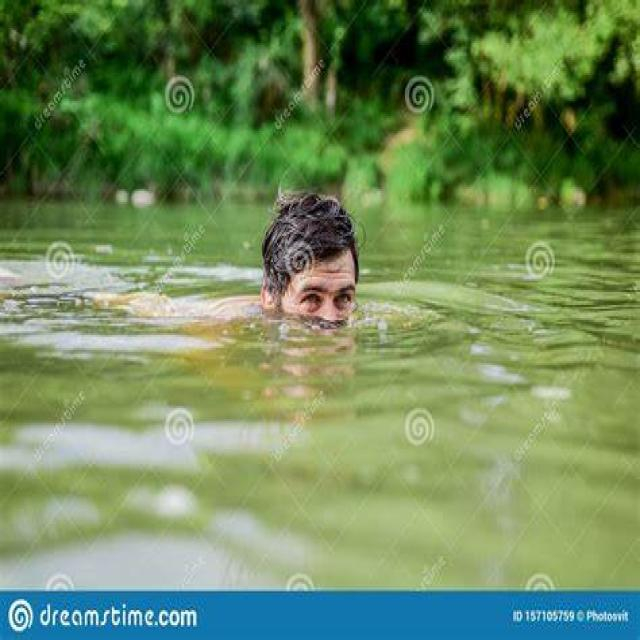swimming: (104, 182, 414, 347)
